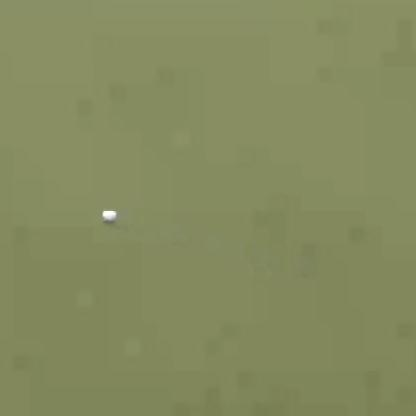golfball: (100, 211, 116, 223)
